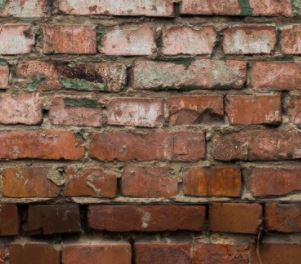brick: (92, 129, 206, 159), (88, 203, 205, 232), (132, 56, 243, 86), (1, 130, 79, 163), (41, 21, 99, 56), (1, 165, 63, 197), (221, 20, 277, 55), (22, 205, 83, 237), (101, 23, 156, 57), (120, 169, 182, 199), (60, 239, 134, 264), (105, 95, 162, 126), (184, 167, 246, 195), (163, 24, 214, 58), (50, 96, 104, 128), (58, 1, 174, 15), (228, 94, 280, 125), (129, 239, 191, 264), (1, 90, 42, 126), (65, 169, 121, 195), (252, 61, 301, 90), (207, 202, 262, 227), (1, 22, 36, 53), (256, 239, 301, 263), (8, 241, 58, 261), (266, 204, 301, 232), (1, 1, 47, 19), (179, 1, 239, 14), (251, 1, 292, 17)
